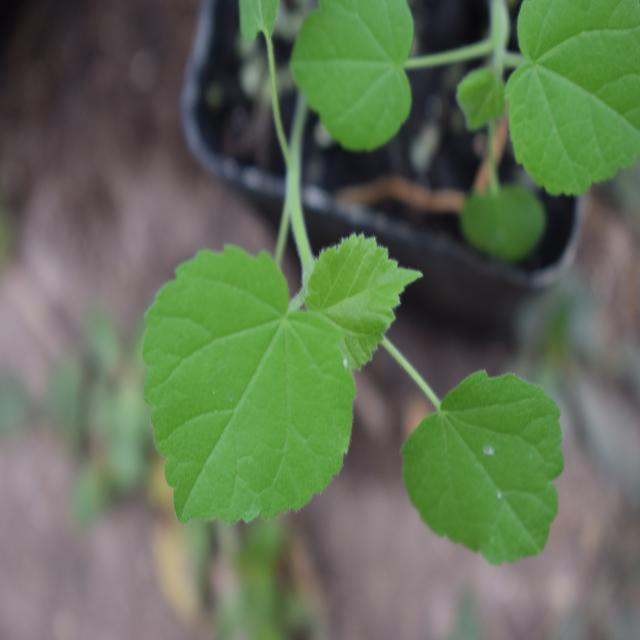abutilon theophrasti: (123, 226, 563, 587)
